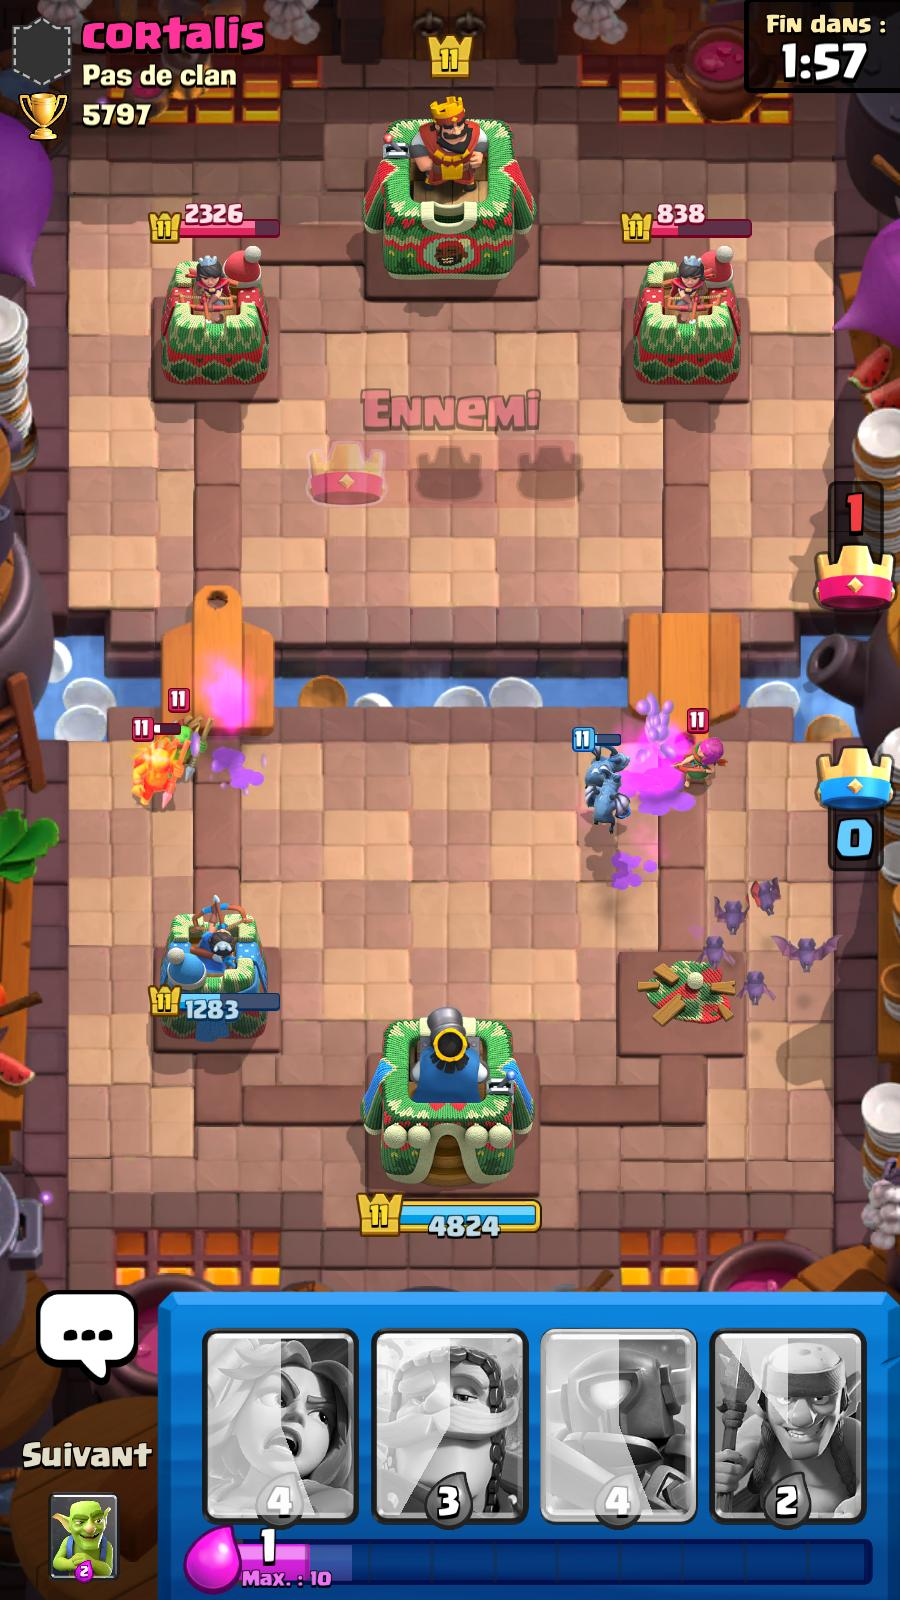archere: (674, 718, 725, 793)
bat: (767, 933, 849, 971), (755, 867, 793, 919), (708, 895, 752, 937), (735, 968, 777, 1010), (699, 932, 734, 968)
gargouille: (588, 771, 641, 846), (569, 734, 635, 786)
gobelin_lances: (124, 742, 185, 815), (164, 708, 219, 777)
